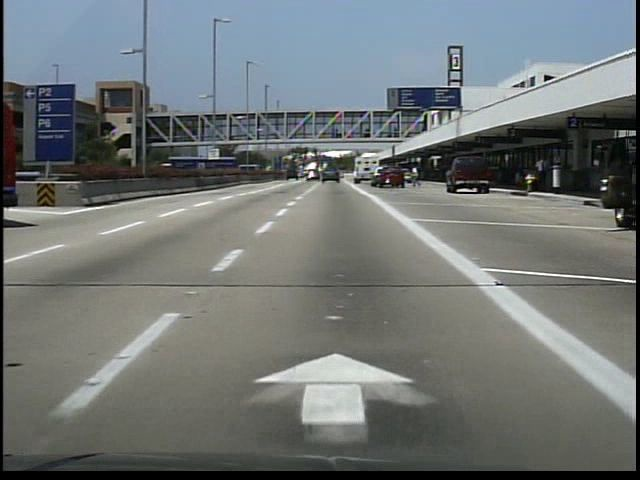person: (531, 154, 550, 197), (410, 168, 424, 190)
